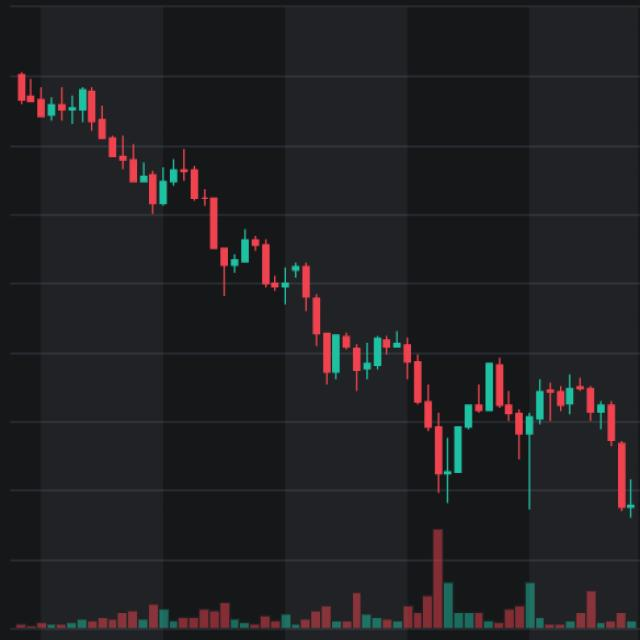Channel-down: (6, 47, 640, 584)
